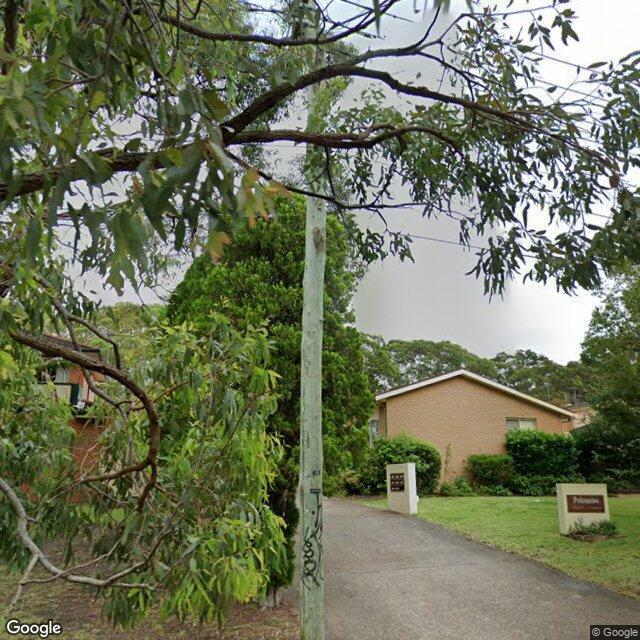timber-pole: (299, 166, 327, 640)
